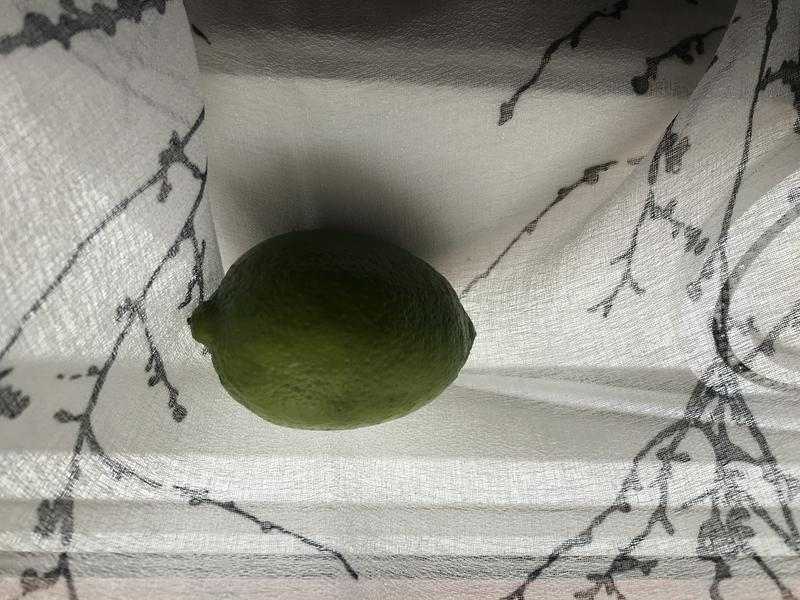lime: (181, 221, 500, 441)
